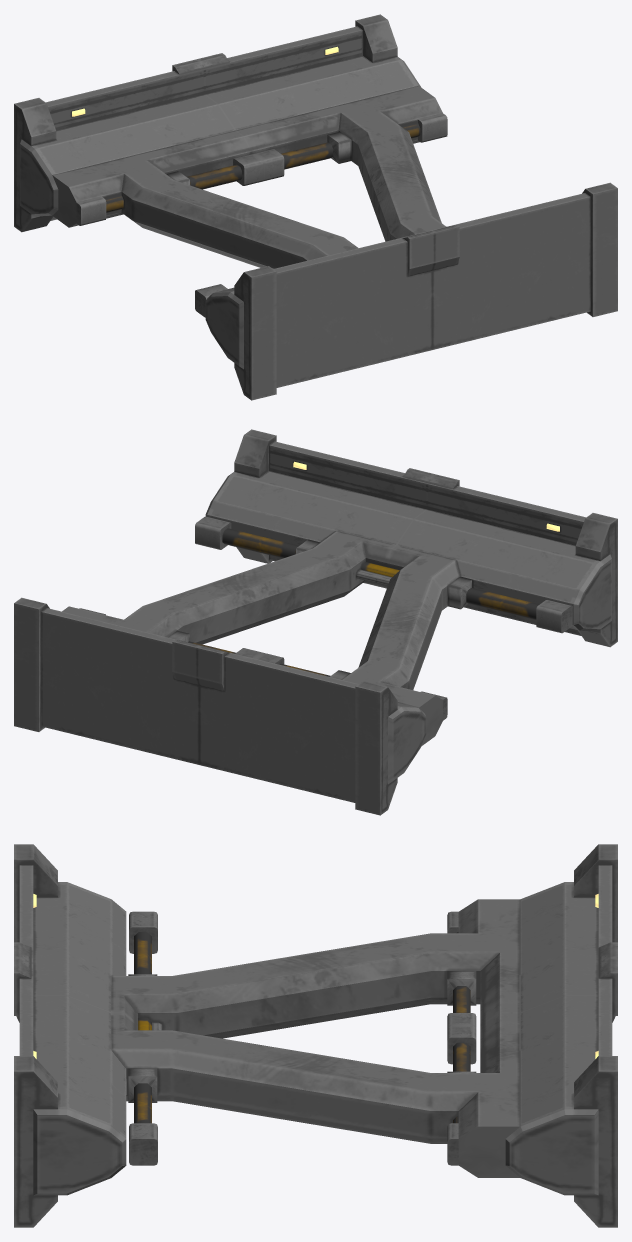
The model's file is Pfb_Ceiling_model.fbx.
3 views of the same model, one above another, from view 1: azimuth 30°, elevation 25°; view 2: azimuth 150°, elevation 25°; view 3: azimuth 270°, elevation 25° (orthographic). The views are drawn at different scales.
Parts seen in each view (by area): view 1: SodaCeiling; view 2: SodaCeiling; view 3: SodaCeiling.
Part boxes in pixels (x1,y1,x2,y2): SodaCeiling: (14,14,617,400); SodaCeiling: (14,429,617,815); SodaCeiling: (14,844,617,1227).
Size of the model in its own units: 3.2 by 1.01 by 3.54.
Materials: 1 (1 with a texture image).
